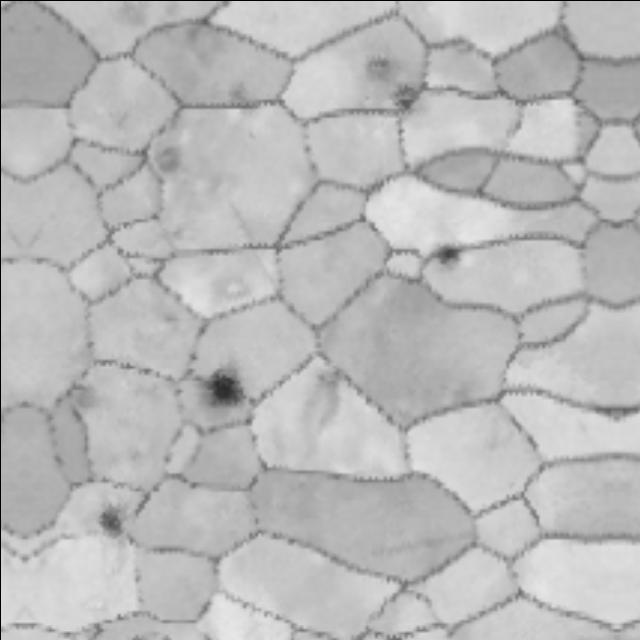good_void: (292, 364, 348, 441), (193, 357, 254, 418), (46, 374, 107, 428), (90, 500, 136, 546), (358, 47, 407, 88), (384, 76, 427, 121), (148, 137, 186, 181), (429, 234, 466, 272)
